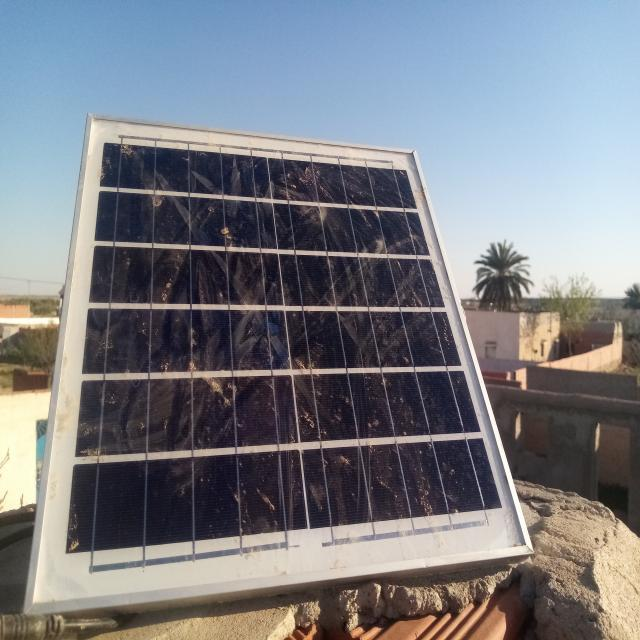faulty: (28, 115, 532, 603)
